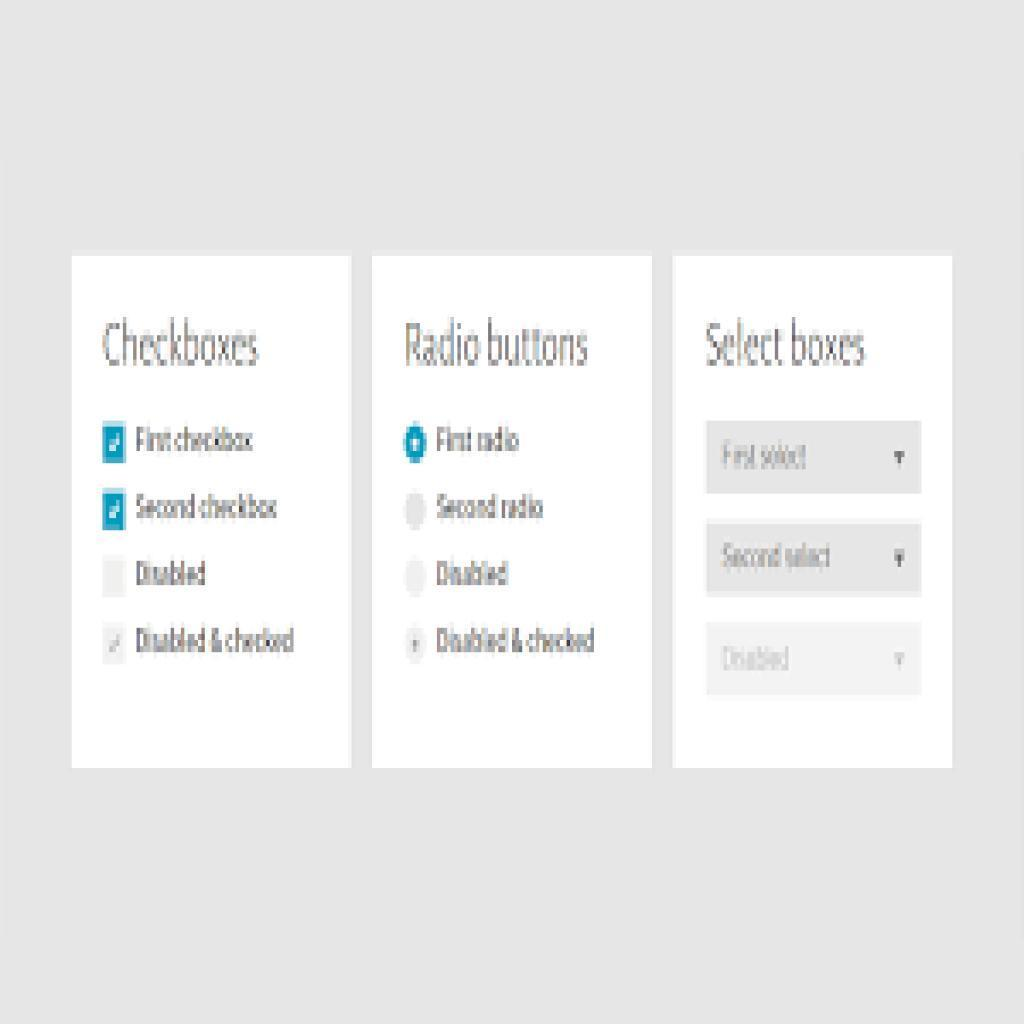checkbox: (101, 418, 130, 469), (100, 484, 129, 531), (100, 555, 129, 602), (102, 622, 130, 669)
dropdown: (705, 620, 927, 697), (704, 523, 924, 600), (705, 421, 925, 495)
radio: (400, 618, 431, 676), (401, 420, 432, 468), (401, 554, 429, 602), (403, 489, 430, 538)
